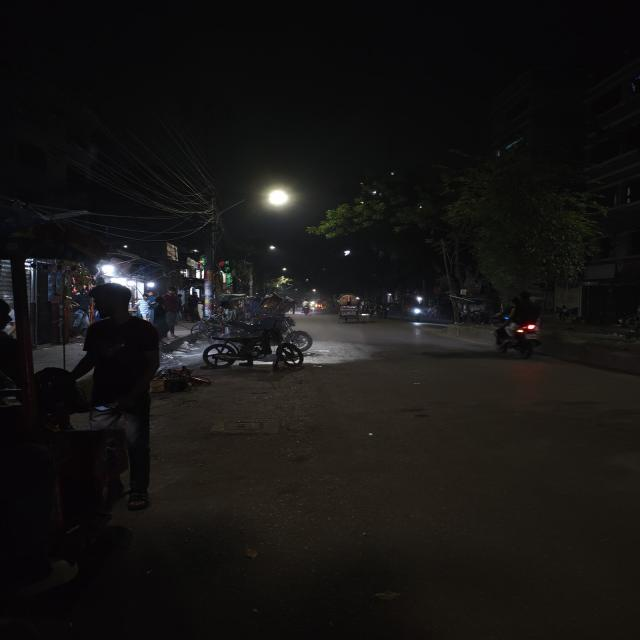motorcycle: (483, 289, 557, 361), (192, 327, 312, 370)
pedestrian: (158, 289, 182, 337)
rickshaw: (332, 294, 376, 324)
